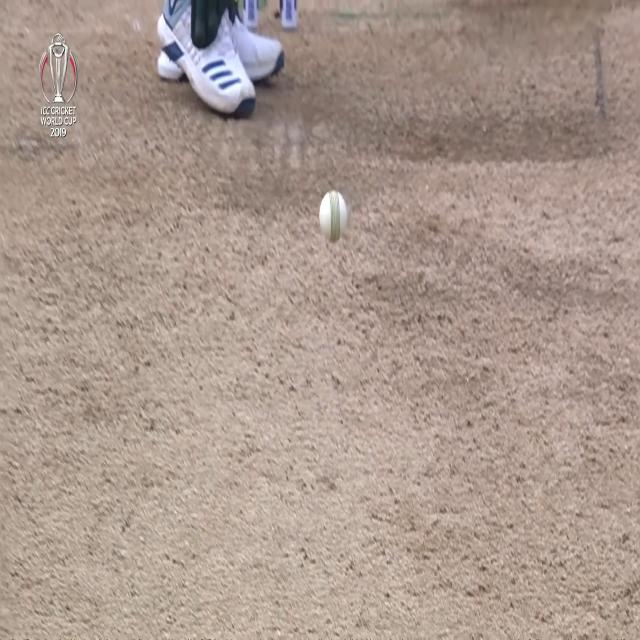Cricket ball: (319, 186, 349, 245)
